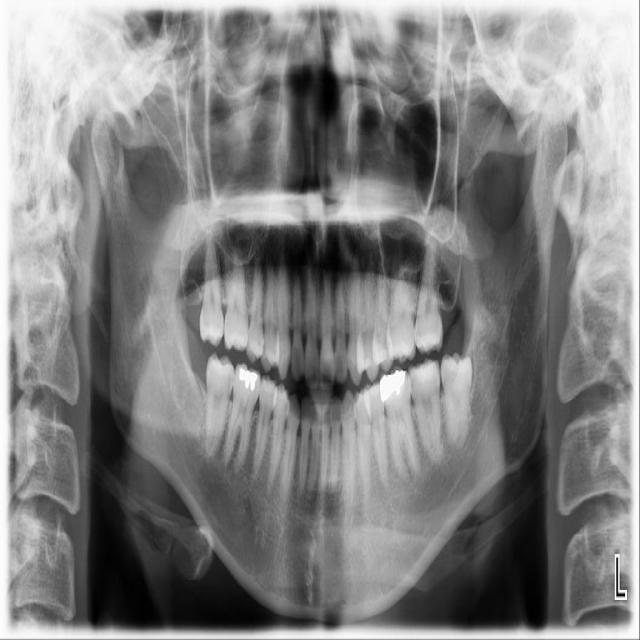Filling: (377, 372, 405, 402), (236, 370, 259, 389)
impacted tooth: (439, 354, 473, 450)
